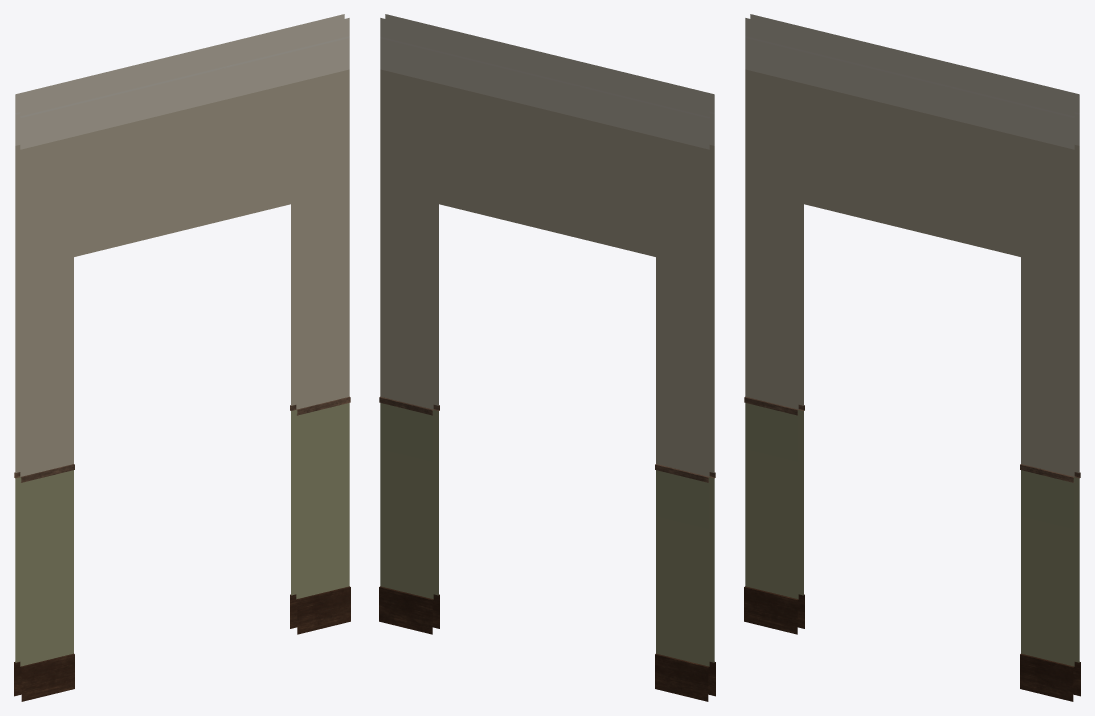
The model's file is Single_Door_Wall.fbx.
3 views of the same model, side by side, from view 1: azimuth 30°, elevation 25°; view 2: azimuth 150°, elevation 25°; view 3: azimuth 330°, elevation 25° (orthographic).
Visible parts, largest first — view 1: Single_Doorframe.004; view 2: Single_Doorframe.004; view 3: Single_Doorframe.004.
Part boxes in pixels (x1,y1,x2,y2): Single_Doorframe.004: [14, 14, 350, 701]; Single_Doorframe.004: [379, 14, 715, 701]; Single_Doorframe.004: [744, 14, 1080, 701].
Size of the model in its own units: 200 by 350 by 7.93.
